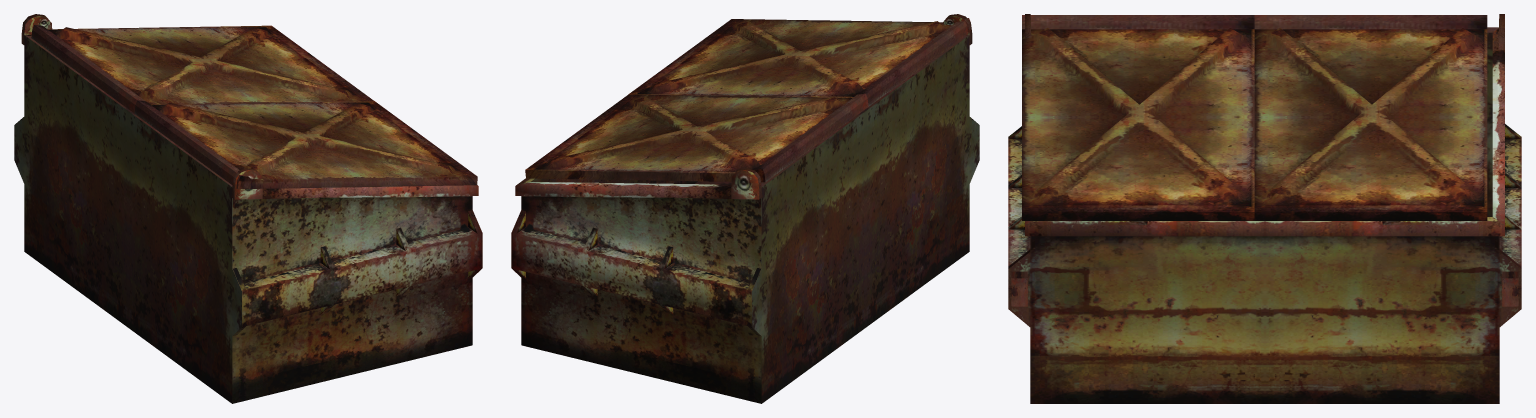
File: Dumpster01.FBX
3 views of the same model, side by side, from view 1: azimuth 30°, elevation 25°; view 2: azimuth 150°, elevation 25°; view 3: azimuth 270°, elevation 25° (orthographic). The views are drawn at different scales.
Visible parts, largest first — view 1: dumpster02:0, dumpsterlid02:0, dumpsterlid01; view 2: dumpster02:0, dumpsterlid01, dumpsterlid02:0; view 3: dumpster02:0, dumpsterlid01, dumpsterlid02:0.
Part boxes in pixels (bbox=[...]): dumpster02:0: bbox=[14, 14, 482, 403]; dumpsterlid02:0: bbox=[134, 100, 477, 189]; dumpsterlid01: bbox=[31, 25, 373, 113]; dumpster02:0: bbox=[511, 14, 979, 403]; dumpsterlid01: bbox=[525, 93, 868, 182]; dumpsterlid02:0: bbox=[628, 18, 970, 106]; dumpster02:0: bbox=[1008, 14, 1521, 403]; dumpsterlid01: bbox=[1254, 15, 1487, 220]; dumpsterlid02:0: bbox=[1022, 15, 1254, 220].
Bounding box in the file's own units: 1.11 × 1.01 × 1.8.
